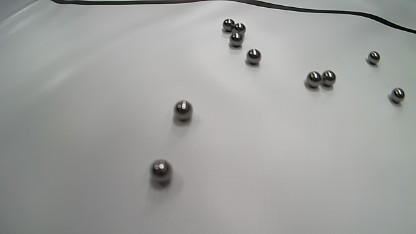ironball: (150, 159, 172, 184), (174, 100, 192, 121), (305, 71, 321, 88), (246, 48, 261, 64), (321, 70, 336, 86), (390, 88, 405, 103), (229, 32, 243, 47), (367, 51, 380, 65), (231, 22, 246, 34), (222, 18, 234, 32)
